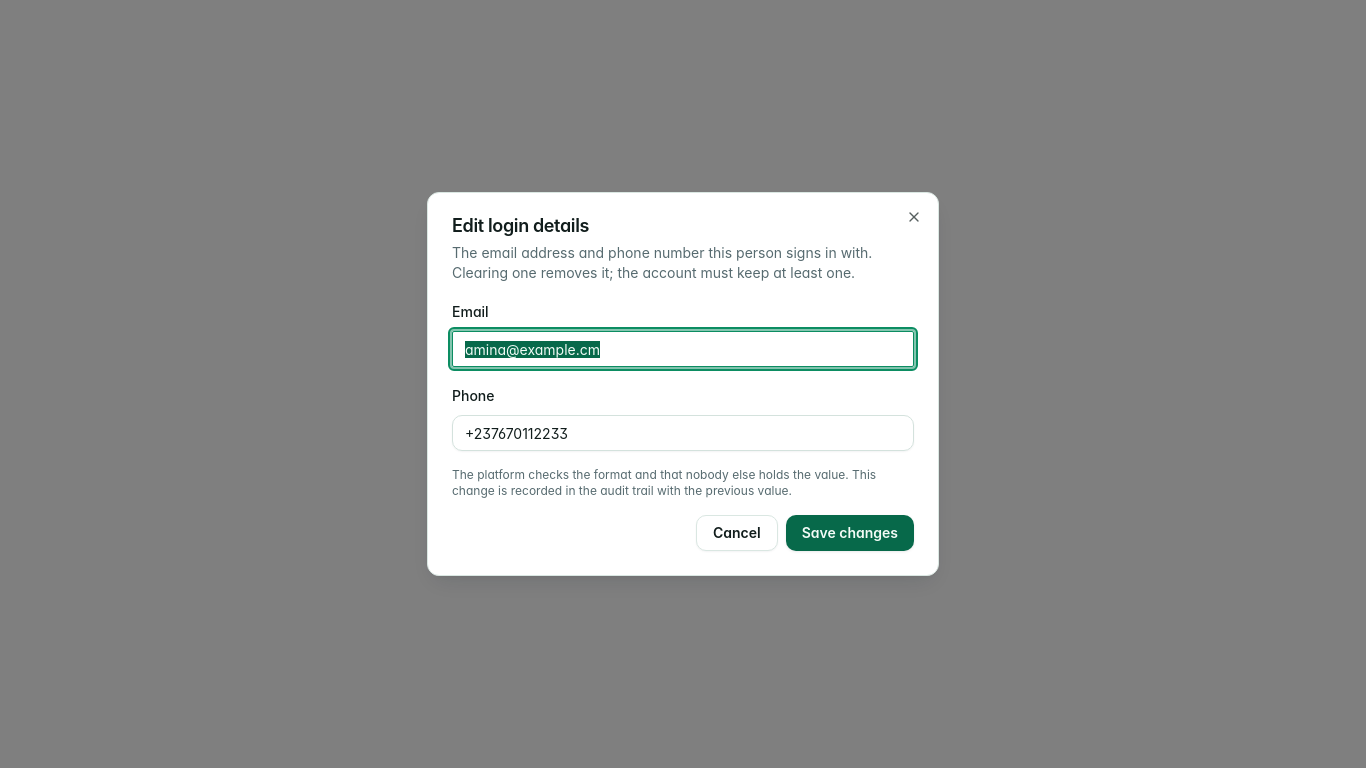
Test: what it sends › spends no request when nothing has changed
Click the button "Save changes" at (850, 533), box left=786, top=515, right=914, bottom=551
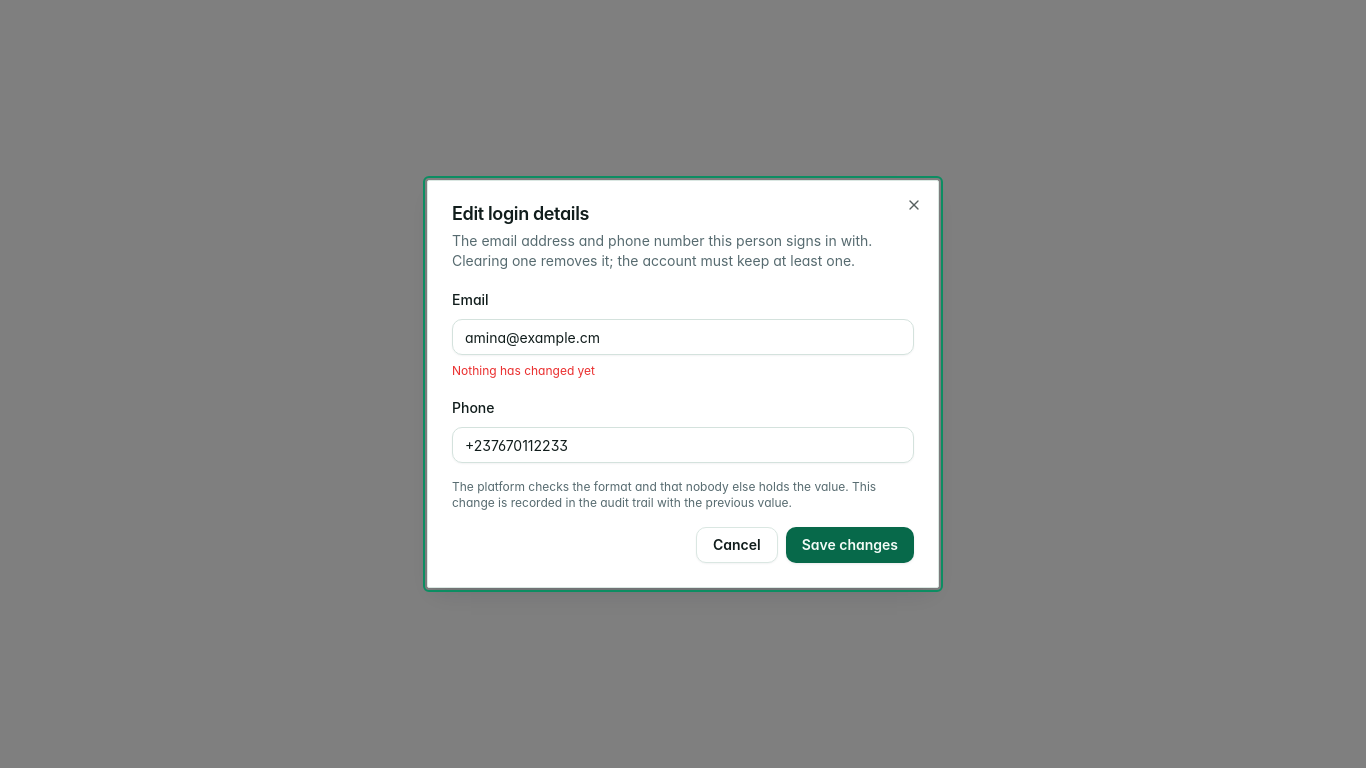
Result: the text "Nothing has changed yet" is shown at left=452, top=363, right=595, bottom=378
